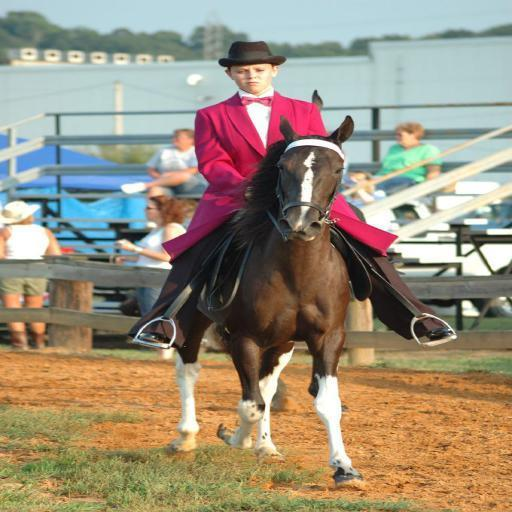horse: (170, 114, 372, 492)
